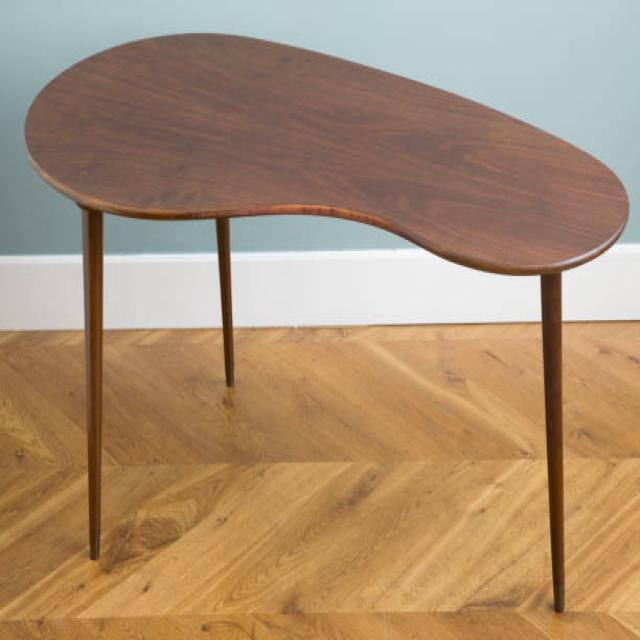table: (23, 30, 630, 612)
